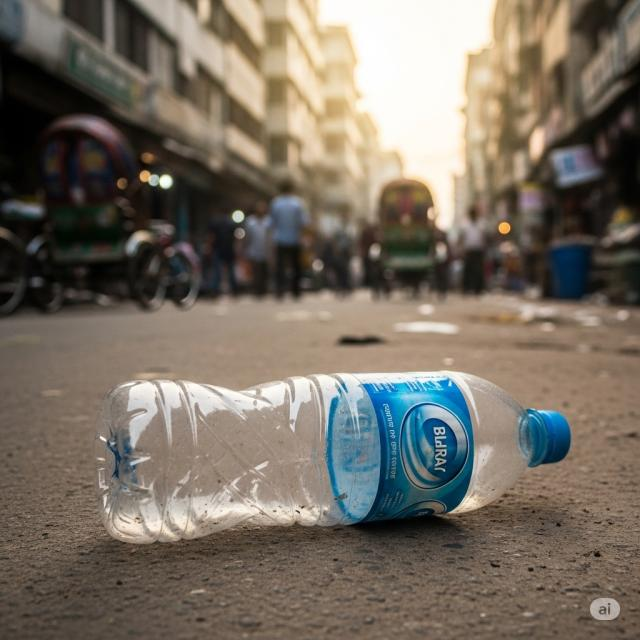plastic: (92, 365, 574, 545)
